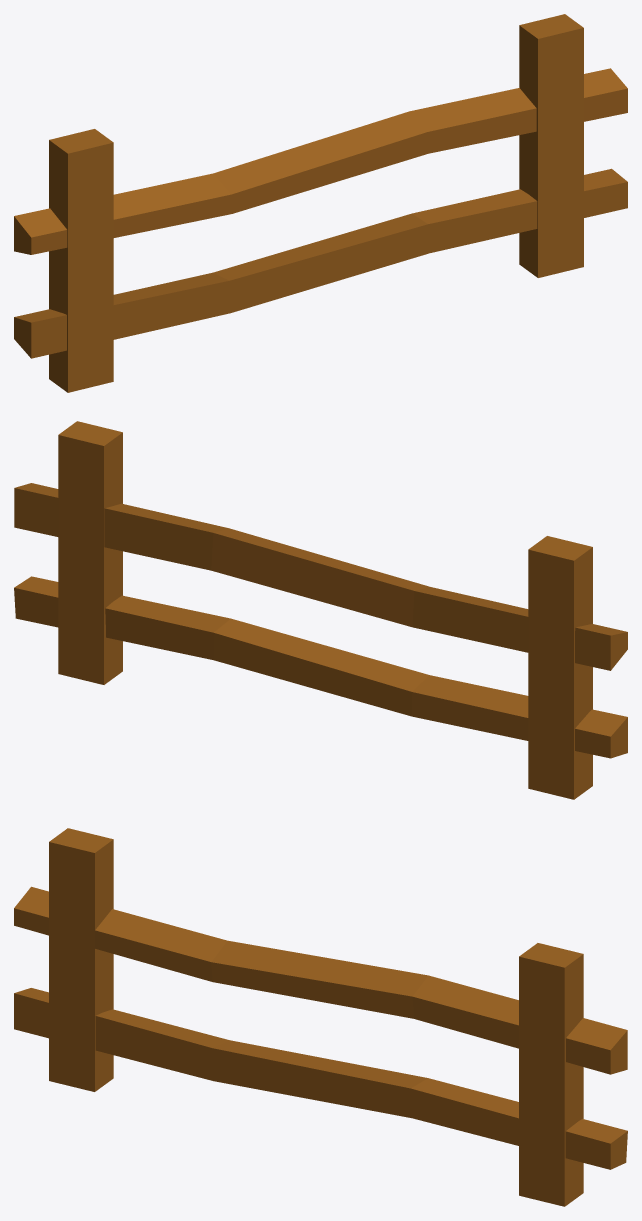
File: WoodenFence.fbx
3 renders of one model, top to bottom at view 1: azimuth 30°, elevation 25°; view 2: azimuth 150°, elevation 25°; view 3: azimuth 330°, elevation 25°, orthographic.
Parts seen in each view (by area): view 1: WoodenFence; view 2: WoodenFence; view 3: WoodenFence.
Boxes of the visible parts, <box> form: WoodenFence: <box>14,14,627,392</box>; WoodenFence: <box>14,421,627,799</box>; WoodenFence: <box>14,828,627,1206</box>.
Bounding box in the file's own units: 583 × 223 × 33.89.
